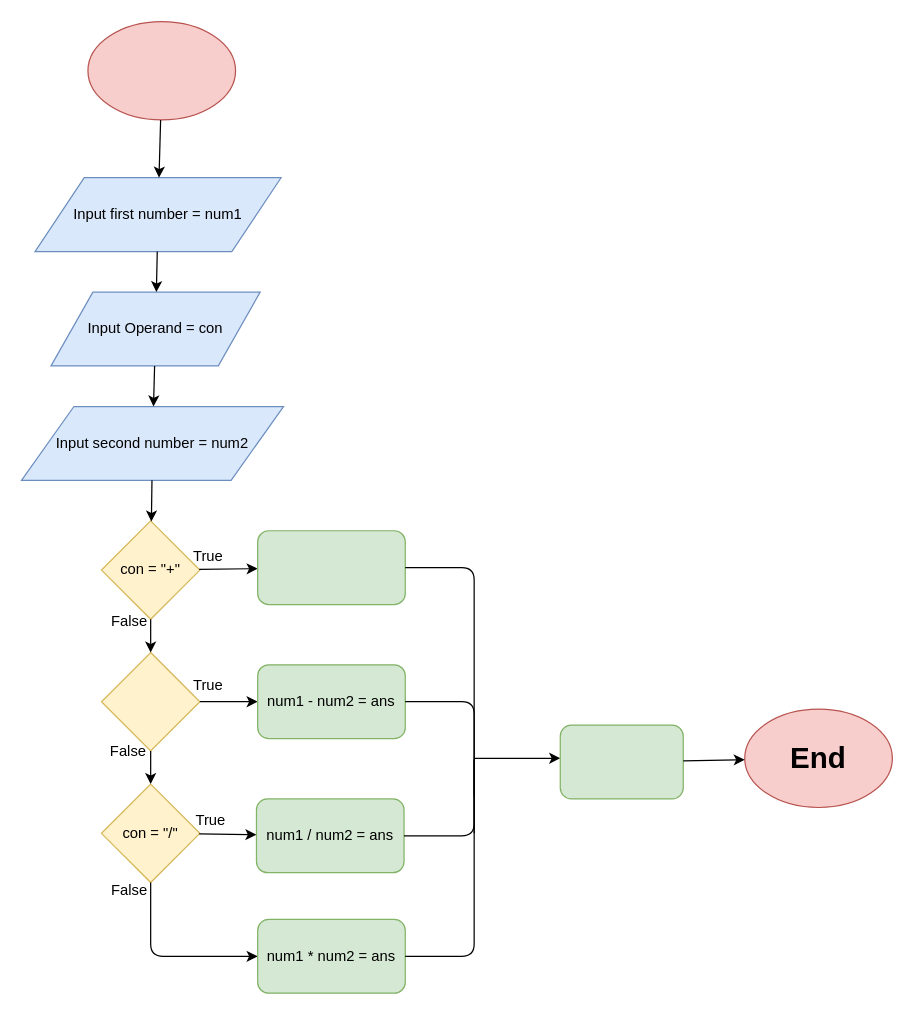
The diagram is 914 pixels wide and 1015 high, and some of its shapes have lost their labels. Here are the shapes that lost their labels. From the top down, the centre of each, then its label:
point 161,70: Start
point 330,567: num1 + num2 = ans
point 150,701: con = "-"
point 621,761: Display "ans"
